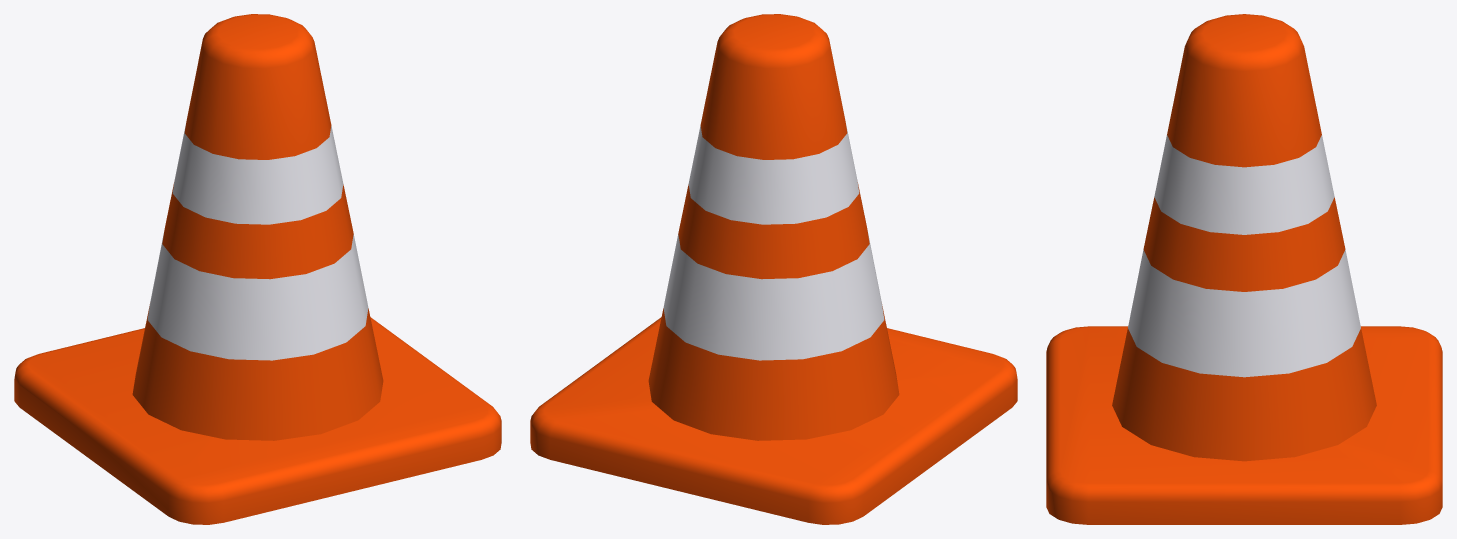
Rendered from huni.fbx.
3 renders of one model, left to right at view 1: azimuth 30°, elevation 25°; view 2: azimuth 150°, elevation 25°; view 3: azimuth 270°, elevation 25°, orthographic. The views are drawn at different scales.
Visible parts, largest first — view 1: Cylinder; view 2: Cylinder; view 3: Cylinder.
Part boxes in pixels (x1=…): Cylinder: x1=14, y1=14, x2=501, y2=524; Cylinder: x1=530, y1=14, x2=1017, y2=524; Cylinder: x1=1046, y1=14, x2=1442, y2=524.
Size of the model in its own units: 2.92 by 3.31 by 2.92.
